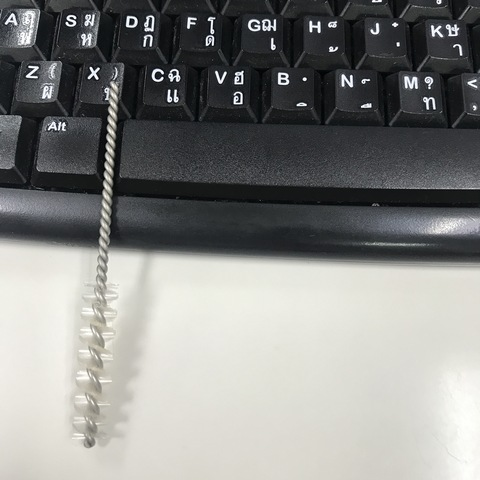Twist Brush-B: (68, 79, 127, 448)
